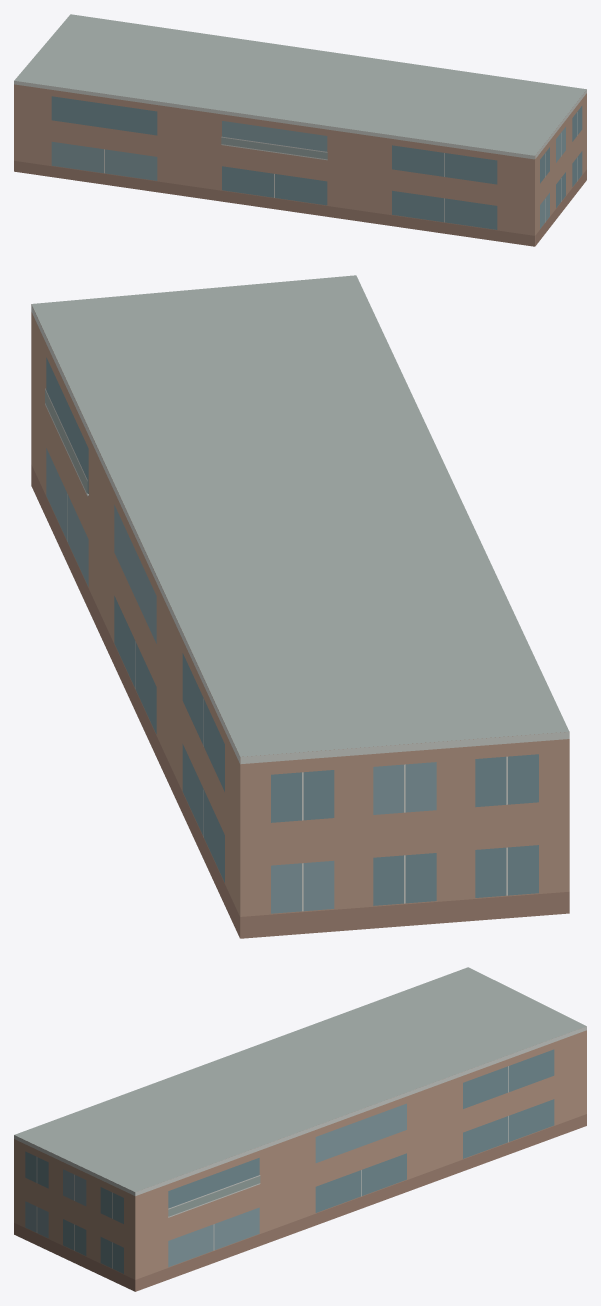
Rendered from survey-upis-33014197.glb.
3 renders of one model, top to bottom at view 1: azimuth 30°, elevation 25°; view 2: azimuth 150°, elevation 25°; view 3: azimuth 270°, elevation 25°, orthographic. The views are drawn at different scales.
Parts seen in each view (by area): view 1: survey-upis-33014197.tmp; view 2: survey-upis-33014197.tmp; view 3: survey-upis-33014197.tmp.
Boxes of the visible parts, x1=… form: survey-upis-33014197.tmp: x1=14, y1=14, x2=586, y2=246; survey-upis-33014197.tmp: x1=31, y1=275, x2=569, y2=938; survey-upis-33014197.tmp: x1=14, y1=967, x2=586, y2=1291.
Size of the model in its own units: 29.58 by 6.1 by 31.81.
